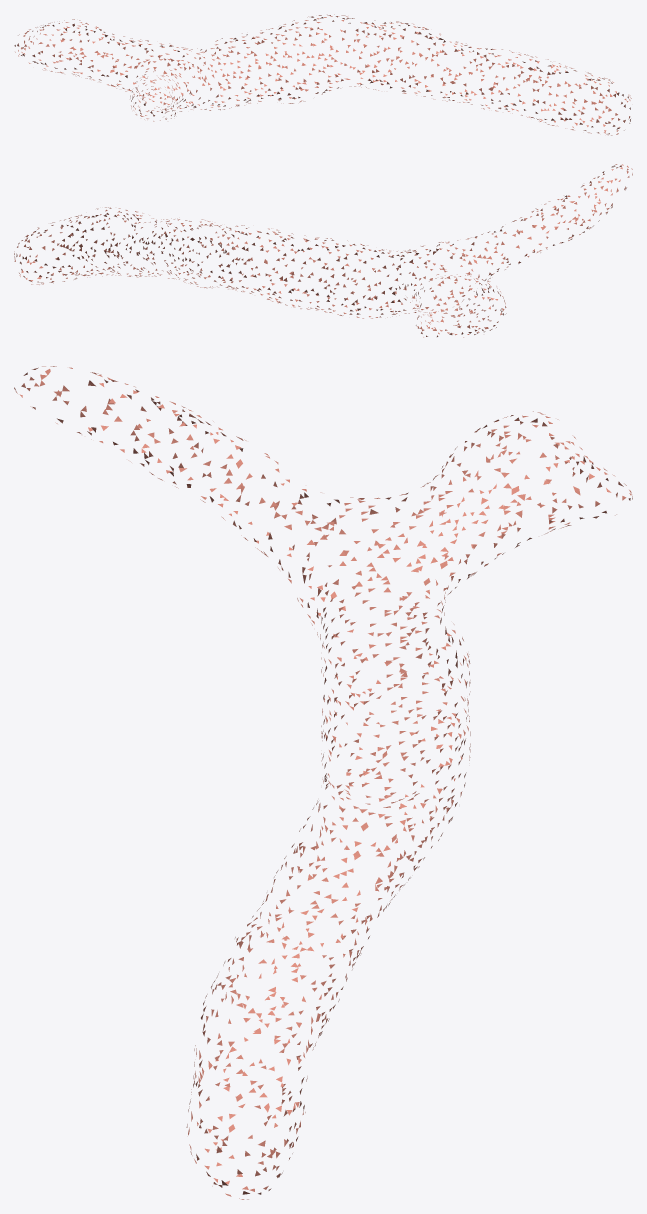
The model's file is morph_002.glb.
The picture shows the model from 3 angles, top to bottom: view 1: azimuth 30°, elevation 25°; view 2: azimuth 150°, elevation 25°; view 3: azimuth 270°, elevation 25°; orthographic projection. The views are drawn at different scales.
Bounding box in the file's own units: 112 × 38.83 × 59.18.
